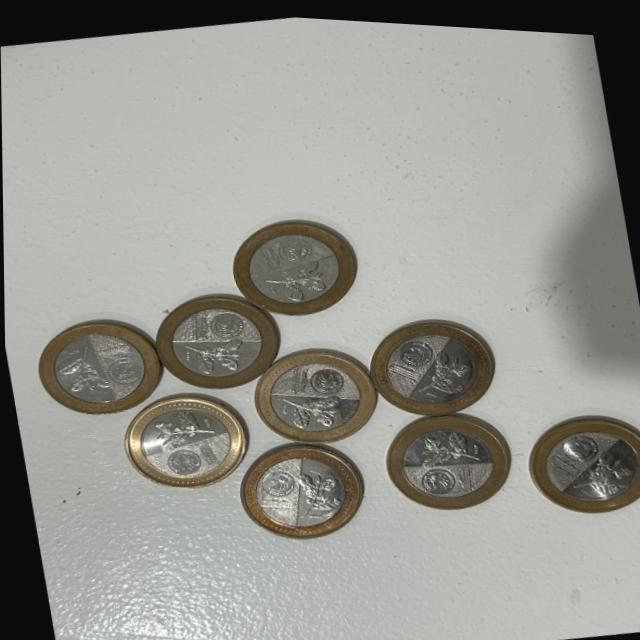20_New_Back: (142, 403, 215, 456), (564, 439, 634, 493), (411, 341, 478, 397), (179, 332, 250, 379), (277, 382, 345, 430), (59, 341, 112, 401), (262, 257, 327, 305), (290, 465, 341, 522), (417, 421, 478, 466)
